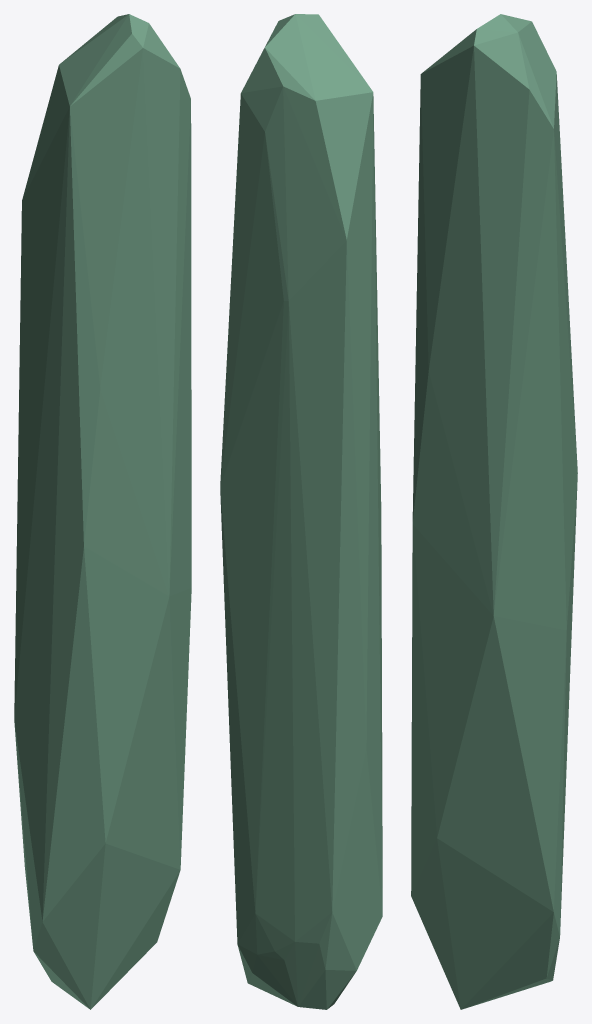
The model's file is food_prepared_baguette_f01.glb.
The picture shows the model from 3 angles, left to right: view 1: azimuth 30°, elevation 25°; view 2: azimuth 150°, elevation 25°; view 3: azimuth 330°, elevation 25°; orthographic projection. The views are drawn at different scales.
Visible parts, largest first — view 1: geometry_0; view 2: geometry_0; view 3: geometry_0.
Boxes of the visible parts, box(x1,y1,x2,y2) form: geometry_0: box(14, 14, 191, 1009); geometry_0: box(220, 14, 382, 1009); geometry_0: box(411, 14, 577, 1009).
Bounding box in the file's own units: 0.0791 × 0.4753 × 0.0523.
